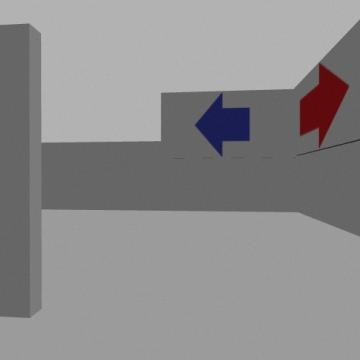blue_left: (196, 93, 250, 156)
red_right: (300, 64, 349, 148)
